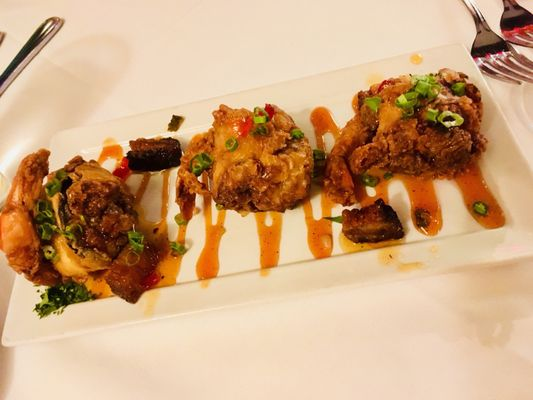burger: (461, 0, 533, 86), (0, 17, 66, 100)
